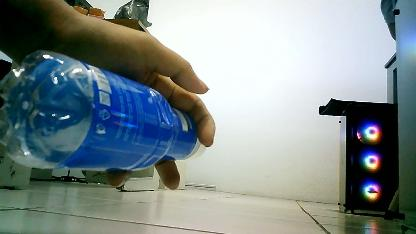Plastic Bottle: (0, 50, 208, 172)
